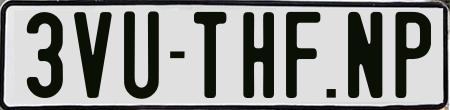3: (24, 9, 61, 95)
F: (284, 10, 318, 101)
H: (242, 12, 273, 99)
N: (345, 9, 382, 100)
P: (392, 9, 432, 101)
T: (192, 11, 229, 99)
U: (122, 10, 162, 104)
V: (73, 12, 114, 99)
